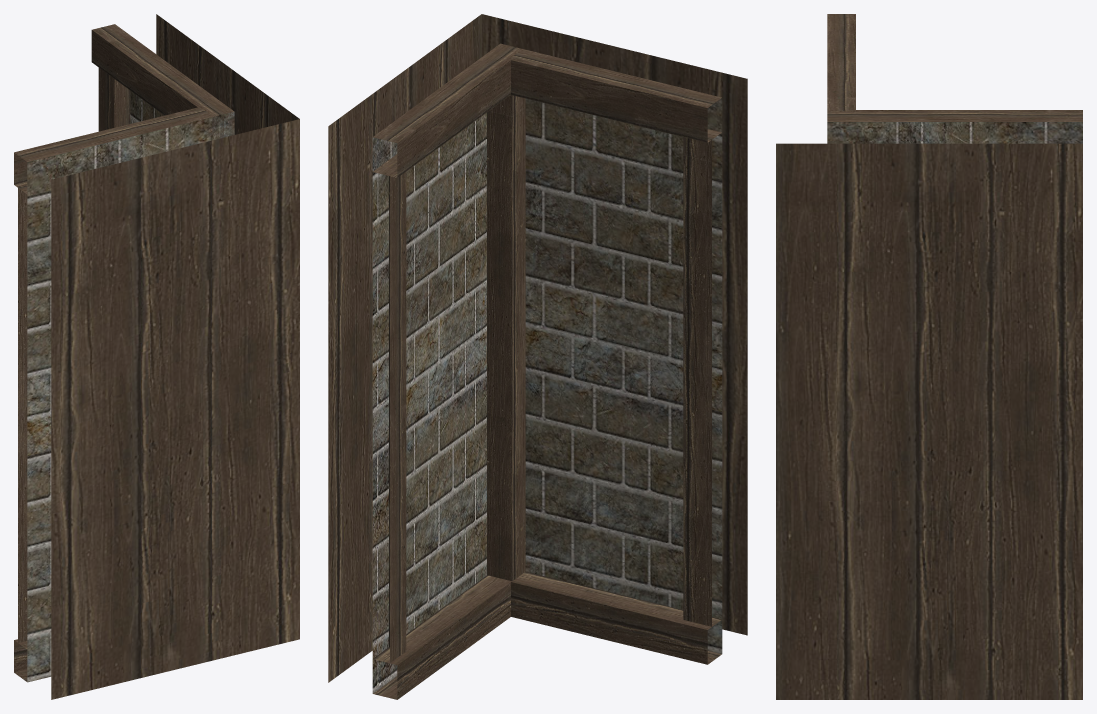
The model's file is ARC1010196.fbx.
3 renders of one model, left to right at view 1: azimuth 30°, elevation 25°; view 2: azimuth 150°, elevation 25°; view 3: azimuth 270°, elevation 25°, orthographic. The views are drawn at different scales.
Visible parts, largest first — view 1: smARC1010196; view 2: smARC1010196; view 3: smARC1010196.
Part boxes in pixels (box(x1,y1,x2,y2)): smARC1010196: box(14, 14, 299, 699); smARC1010196: box(328, 14, 747, 699); smARC1010196: box(776, 14, 1082, 699).
Bounding box in the file's own units: 134 × 268 × 134.
Materials: 1 (1 with a texture image).
